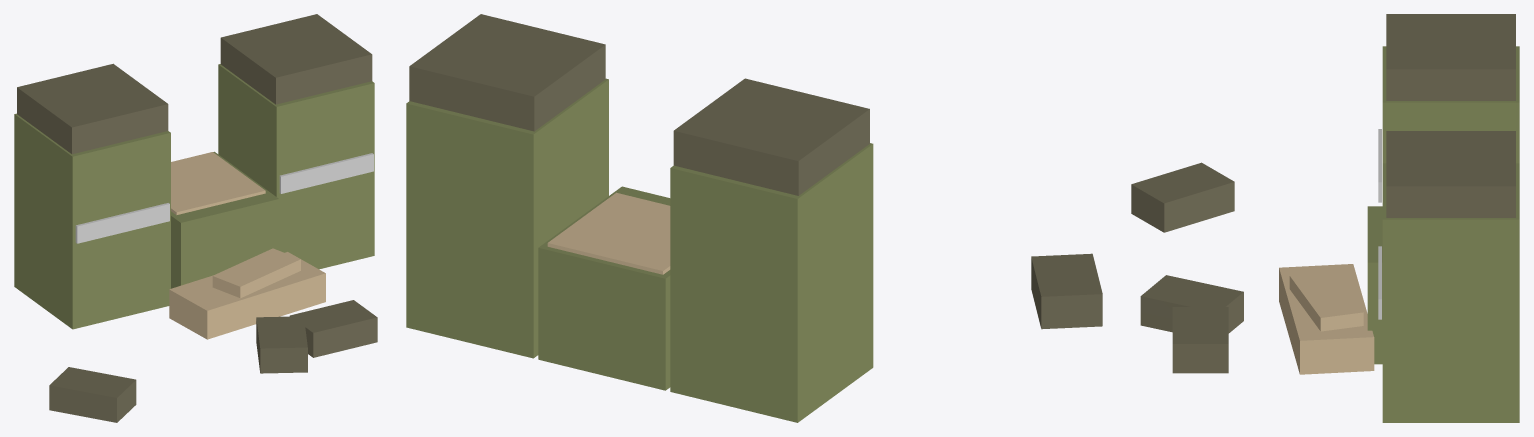
File: SM_HescoCorto3_v3_RemateSacos_e1_Danado_LOD1.fbx
3 renders of one model, left to right at view 1: azimuth 30°, elevation 25°; view 2: azimuth 150°, elevation 25°; view 3: azimuth 270°, elevation 25°, orthographic. The views are drawn at different scales.
Parts seen in each view (by area): view 1: SM_hesco_piezas_v93_LOD1; view 2: SM_hesco_piezas_v93_LOD1; view 3: SM_hesco_piezas_v93_LOD1.
Part boxes in pixels (box(x1,y1,x2,y2)): SM_hesco_piezas_v93_LOD1: box(14, 14, 377, 422); SM_hesco_piezas_v93_LOD1: box(406, 14, 1102, 422); SM_hesco_piezas_v93_LOD1: box(1131, 14, 1519, 422).
Bounding box in the file's own units: 4.39 × 2.09 × 3.12.
